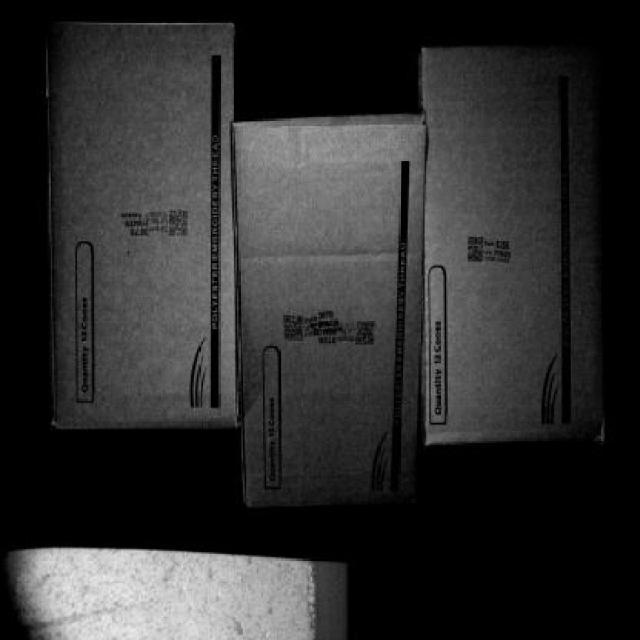box: (61, 23, 240, 426), (426, 51, 606, 443), (239, 120, 421, 500)
